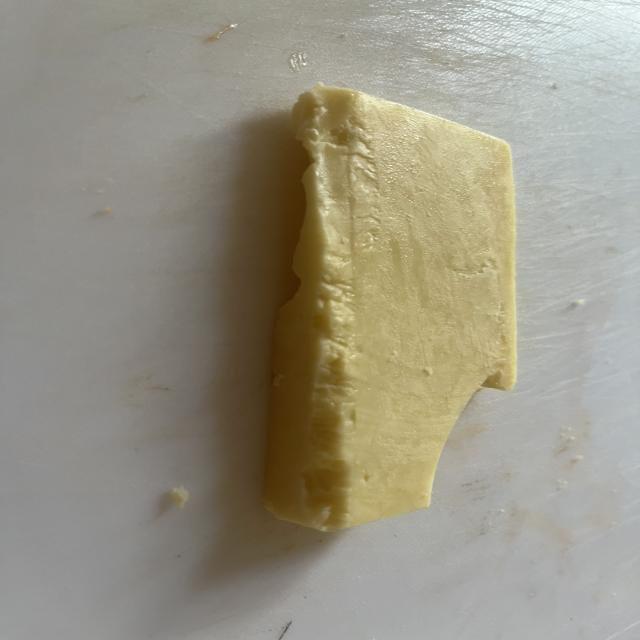cheese: (265, 85, 516, 531)
